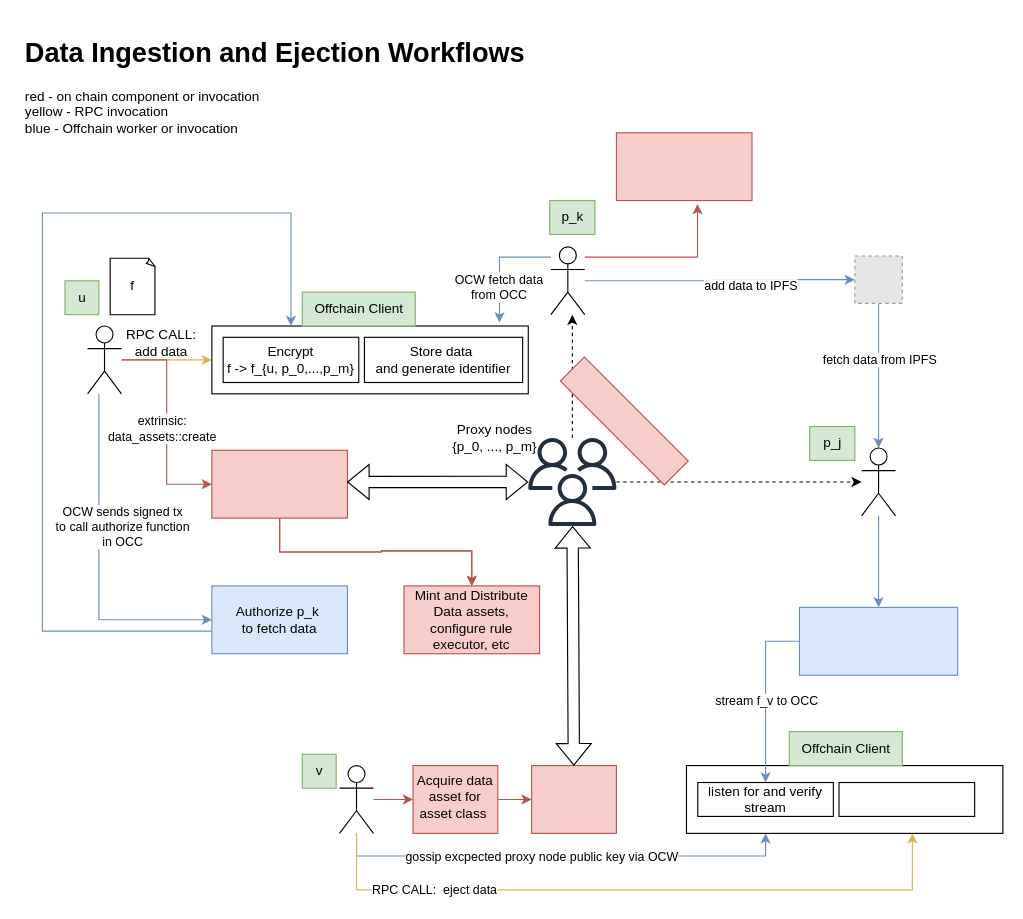
Image size: 1023x919. Some labels were removed from this diagram. Grey dashed boxes stand in for pictures. Each missing label, with the centre of its shape:
"Create Asset class on behalf of 'u'" goes at [683,166].
"Create data ingestion request" goes at [279,483].
"decrypt and download" goes at [906,798].
"Execute associated RuleExecutor" goes at [573,798].
"Proxy node elections" goes at [624,420].
"re-encrypt data for v f_{u, p_0,...,p_k,...p_m} -> f_v" goes at [878,640].
